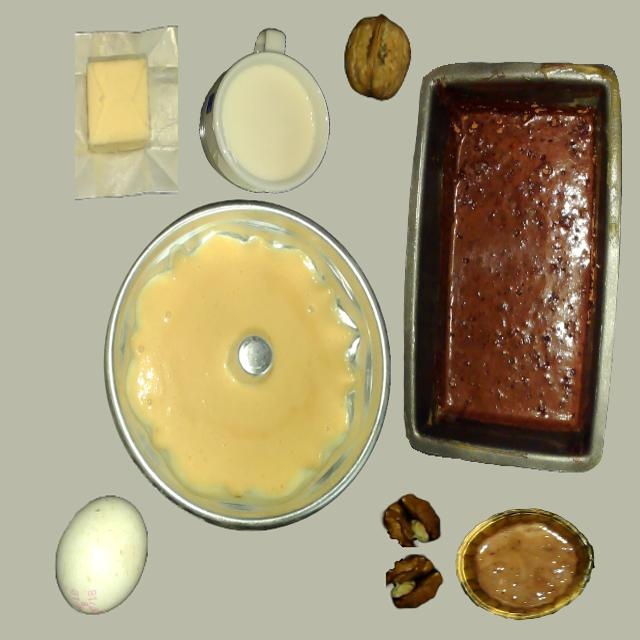Milk: (222, 66, 314, 180)
Walnut: (344, 14, 410, 100)
